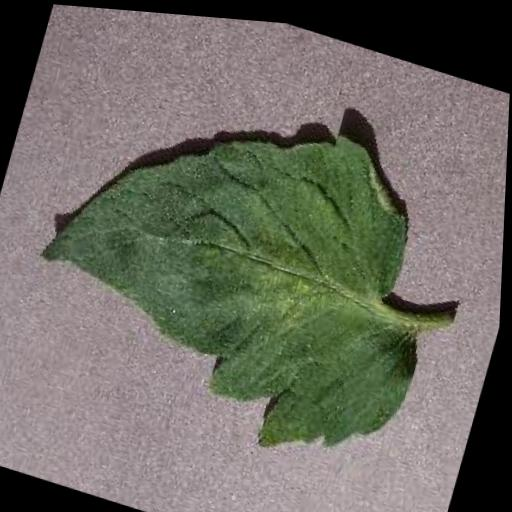Spider Mites: (6, 48, 474, 484)
